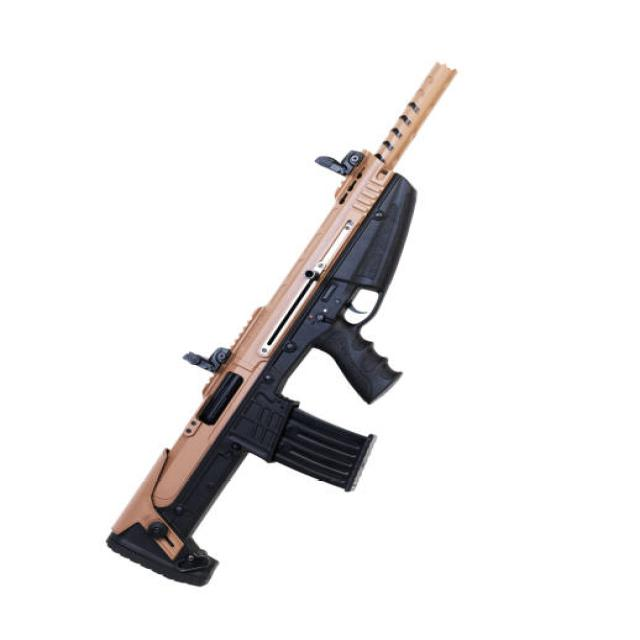rifle: (106, 53, 469, 597)
